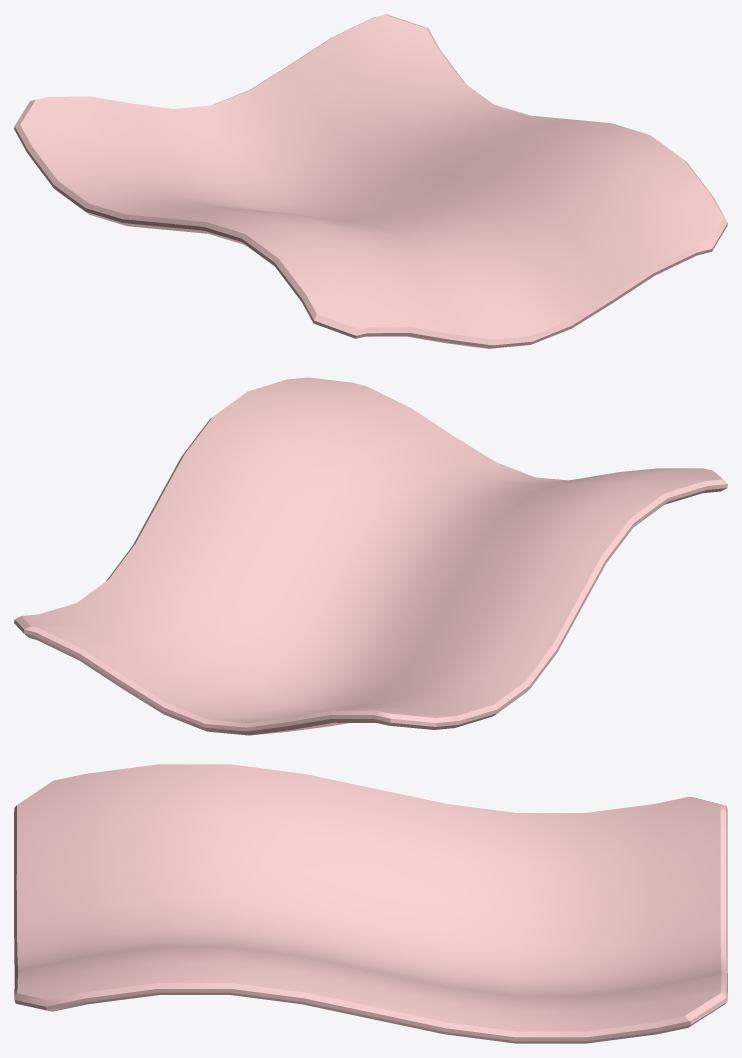
Rendered from SM_Blanket.fbx.
3 renders of one model, top to bottom at view 1: azimuth 30°, elevation 25°; view 2: azimuth 150°, elevation 25°; view 3: azimuth 270°, elevation 25°, orthographic. The views are drawn at different scales.
Visible parts, largest first — view 1: Geo_Blanket; view 2: Geo_Blanket; view 3: Geo_Blanket.
Boxes of the visible parts, x1=… form: Geo_Blanket: x1=14, y1=14, x2=727, y2=348; Geo_Blanket: x1=14, y1=377, x2=727, y2=735; Geo_Blanket: x1=14, y1=764, x2=727, y2=1043.
Size of the model in its own units: 17.77 by 4.53 by 22.61.
